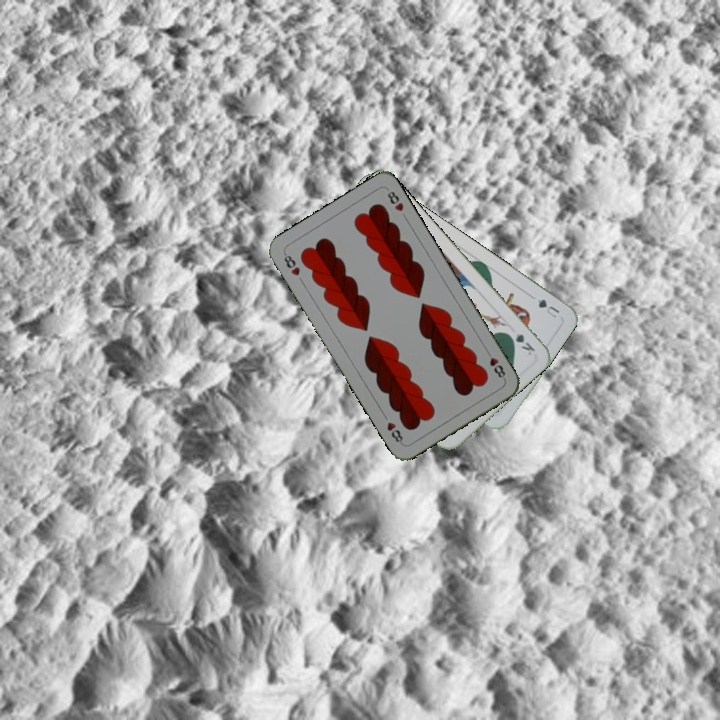GK: (503, 328, 538, 358)
GU: (533, 295, 562, 321)
H8: (482, 346, 508, 382), (280, 249, 303, 278)
